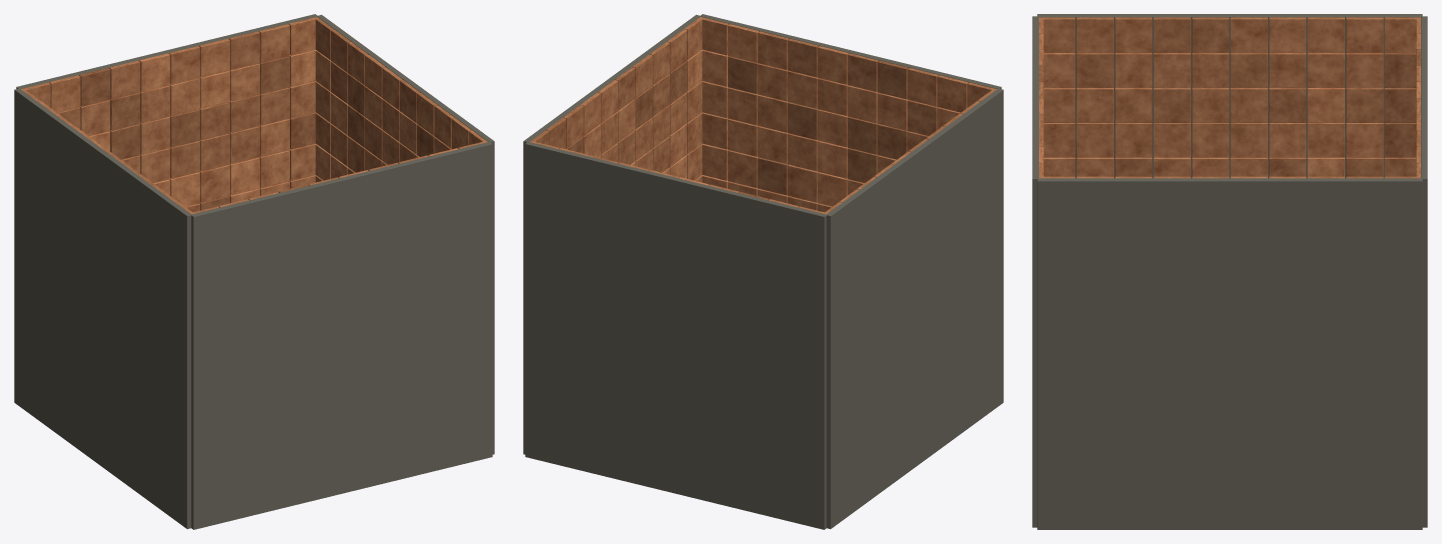
File: 04_橘紅磚牆_10x10.glb
3 renders of one model, left to right at view 1: azimuth 30°, elevation 25°; view 2: azimuth 150°, elevation 25°; view 3: azimuth 270°, elevation 25°, orthographic. The views are drawn at different scales.
Parts seen in each view (by area): view 1: cube25.001, cube28.001, cube27.001, cube26.001; view 2: cube27.001, cube28.001, cube25.001, cube26.001; view 3: cube26.001, cube28.001, cube25.001, cube27.001.
Part boxes in pixels (bbox=[...]): cube25.001: bbox=[190, 141, 492, 529]; cube28.001: bbox=[14, 88, 194, 529]; cube27.001: bbox=[16, 14, 318, 212]; cube26.001: bbox=[314, 14, 494, 454]; cube27.001: bbox=[525, 141, 827, 529]; cube28.001: bbox=[825, 88, 1003, 529]; cube25.001: bbox=[699, 14, 1001, 212]; cube26.001: bbox=[523, 14, 702, 454]; cube26.001: bbox=[1037, 176, 1422, 529]; cube28.001: bbox=[1037, 14, 1422, 178]; cube25.001: bbox=[1032, 16, 1043, 527]; cube27.001: bbox=[1416, 16, 1427, 527].
Size of the model in its own units: 2.57 by 2.5 by 2.57.
Materials: 4 (4 with a texture image).
